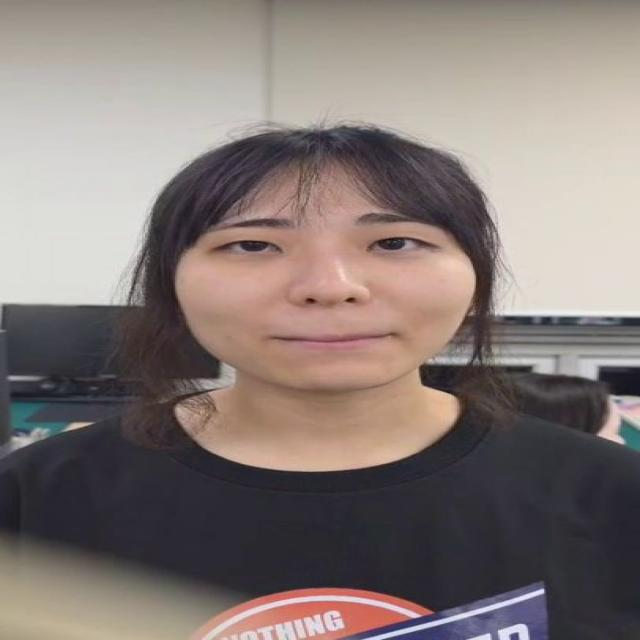eyes: (205, 224, 449, 267)
face: (173, 126, 470, 390)
iris_center: (380, 234, 406, 251), (237, 236, 261, 251)
